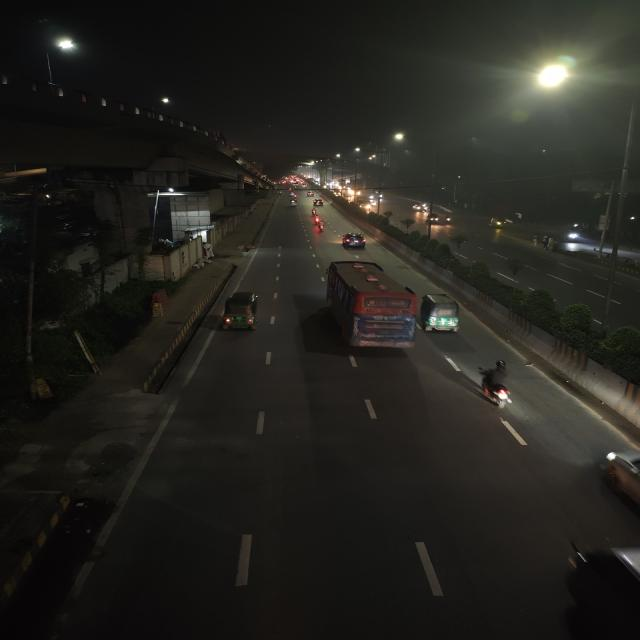bus: (316, 256, 421, 356)
car: (339, 231, 369, 250), (413, 201, 427, 213), (312, 198, 325, 208)
cng: (417, 290, 468, 339), (216, 291, 263, 334), (487, 217, 508, 230), (426, 214, 440, 225)
motorcycle: (471, 356, 525, 416), (314, 218, 326, 232), (312, 214, 324, 226), (309, 209, 320, 219), (289, 198, 299, 207), (445, 214, 452, 224)
pedestrian: (532, 234, 540, 248), (548, 236, 554, 253)
